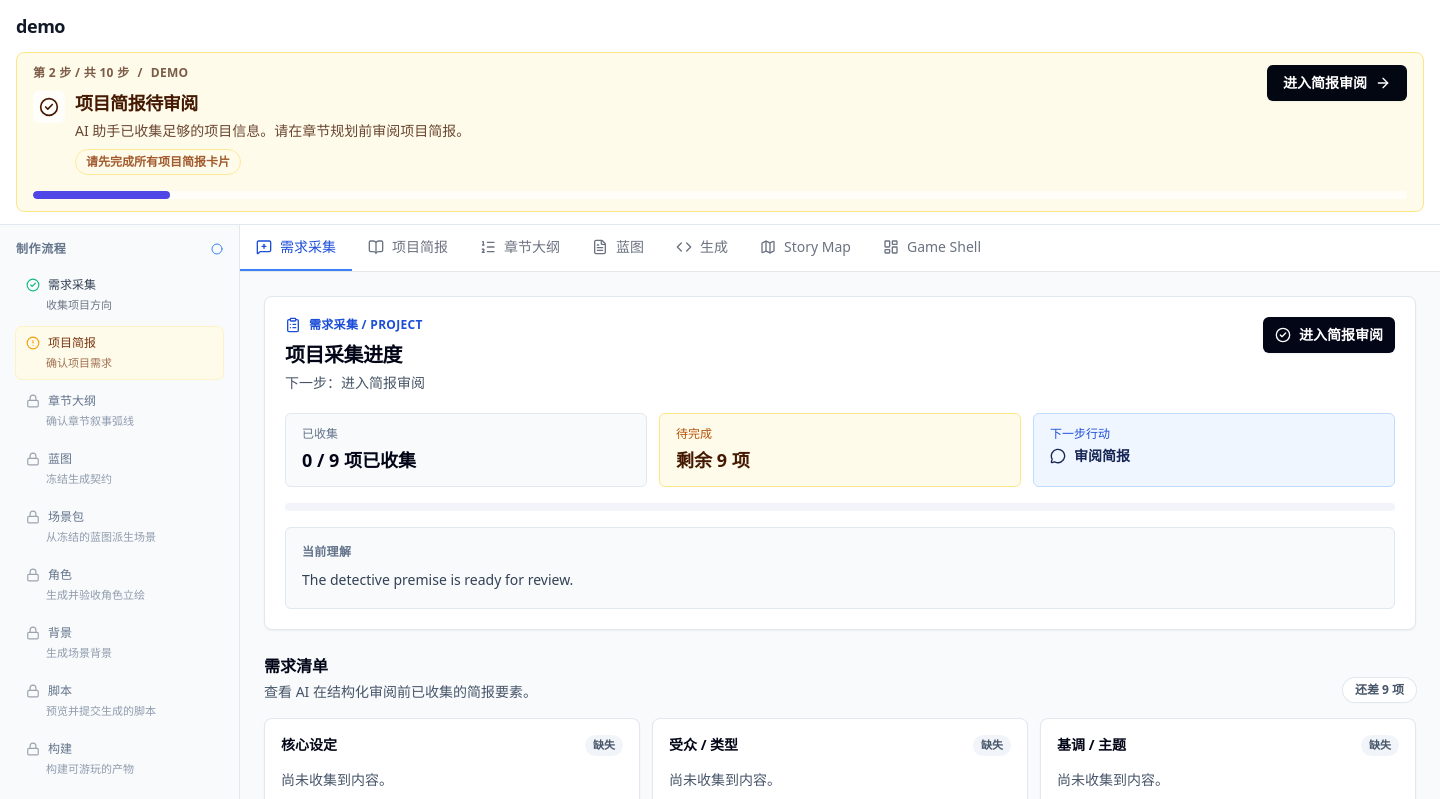
Test case: ProjectWorkspacePage brief promote flow › switches to the brief tab with a success status only after brief promote succeeds
Click the button with aria-label "Primary action: 进入简报审阅". click: (1337,83)
box: [1267,65,1407,101]
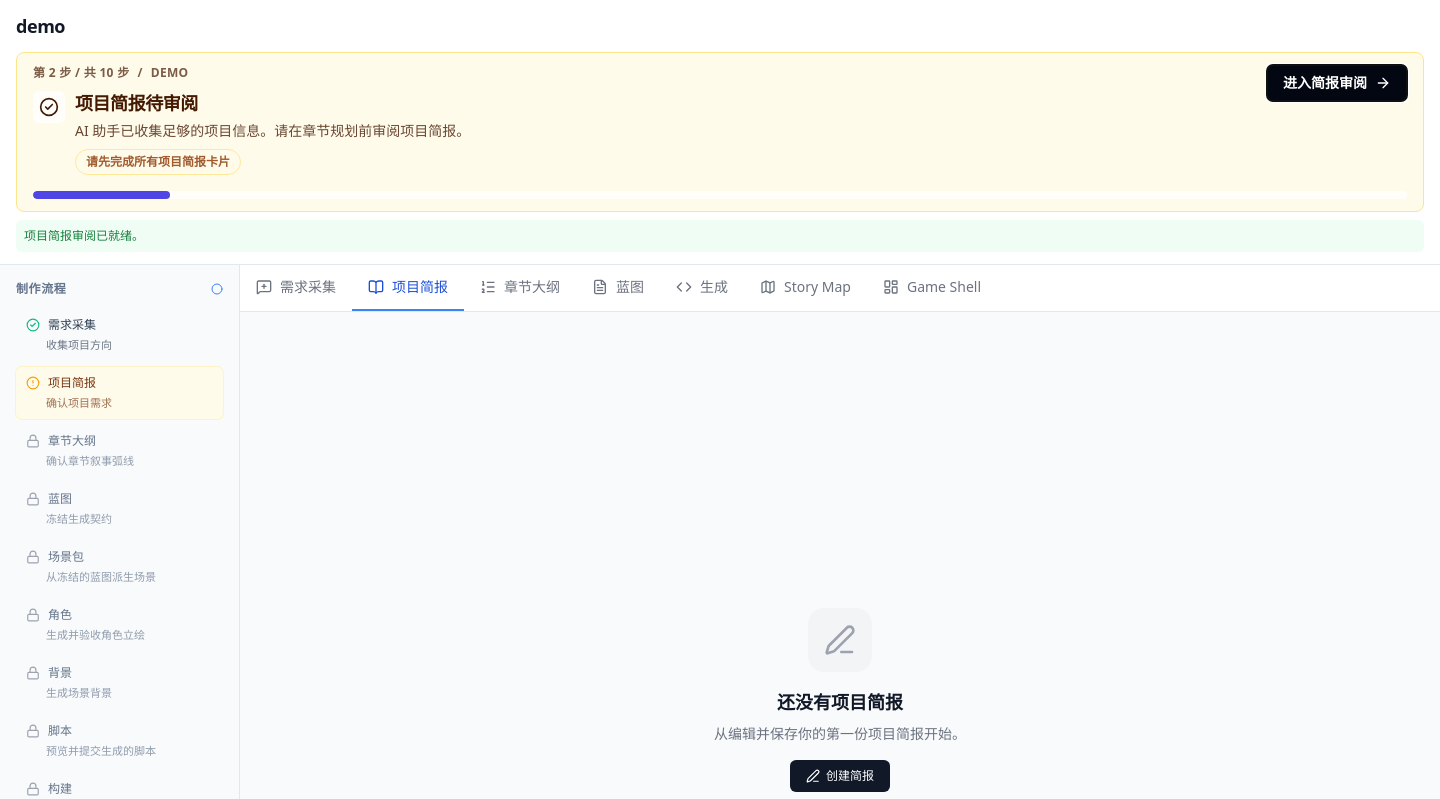
Expected: the text with test id "brief-review-status" reads "项目简报审阅已就绪。", [24,227,144,244]
Expected: the heading "还没有项目简报" is shown, [777,690,903,714]
